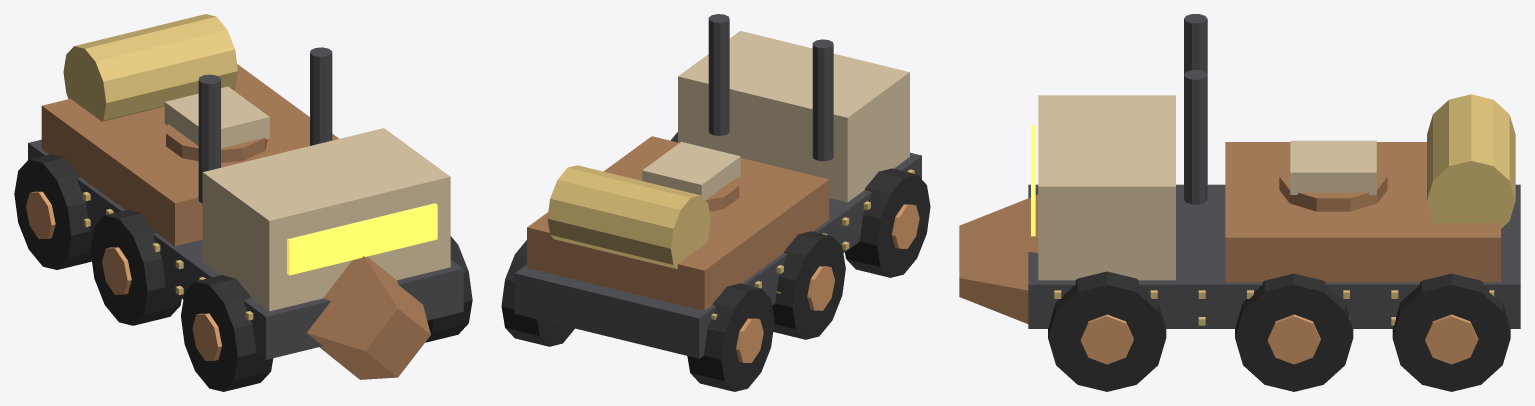
Rendered from raider_harpoon_rig.glb.
3 renders of one model, left to right at view 1: azimuth 30°, elevation 25°; view 2: azimuth 150°, elevation 25°; view 3: azimuth 270°, elevation 25°, orthographic. The views are drawn at different scales.
Parts seen in each view (by area): view 1: chassis, wheel_fl, wheel_ml, wheel_rl, turret_base, wheel_fr; view 2: chassis, wheel_fl, wheel_rl, wheel_ml, turret_base, wheel_rr; view 3: chassis, wheel_fr, wheel_rr, wheel_mr, turret_base.
Boxes of the visible parts, box(x1,y1,x2,y2) form: chassis: box(28, 14, 463, 379); wheel_fl: box(181, 275, 273, 391); wheel_ml: box(90, 210, 181, 325); wheel_rl: box(14, 154, 92, 269); turret_base: box(164, 86, 269, 162); wheel_fr: box(425, 236, 472, 342); chassis: box(514, 14, 921, 358); wheel_fl: box(845, 168, 930, 277); wheel_rl: box(687, 283, 774, 391); wheel_ml: box(772, 231, 845, 339); turret_base: box(642, 142, 740, 211); wheel_rr: box(501, 240, 574, 346); chassis: box(959, 14, 1520, 328); wheel_fr: box(1048, 271, 1166, 391); wheel_rr: box(1392, 273, 1510, 391); wheel_mr: box(1235, 273, 1353, 391); turret_base: box(1279, 140, 1387, 211).
Size of the model in its own units: 2.95 by 3.1 by 5.7.
